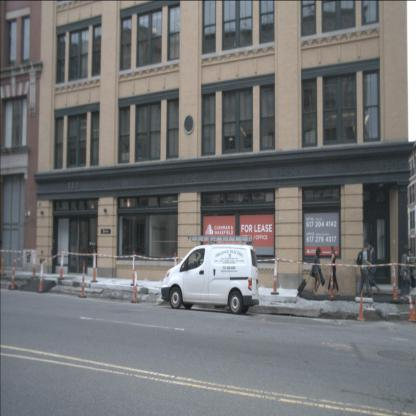cone: (390, 258, 401, 304), (327, 260, 336, 299), (271, 255, 279, 295), (79, 262, 87, 298), (130, 251, 138, 286), (407, 293, 416, 323), (131, 270, 139, 303), (357, 293, 366, 322), (90, 250, 98, 282), (38, 260, 44, 293), (31, 247, 37, 278), (10, 261, 16, 290), (0, 248, 6, 276), (59, 250, 64, 280), (173, 252, 177, 268)
